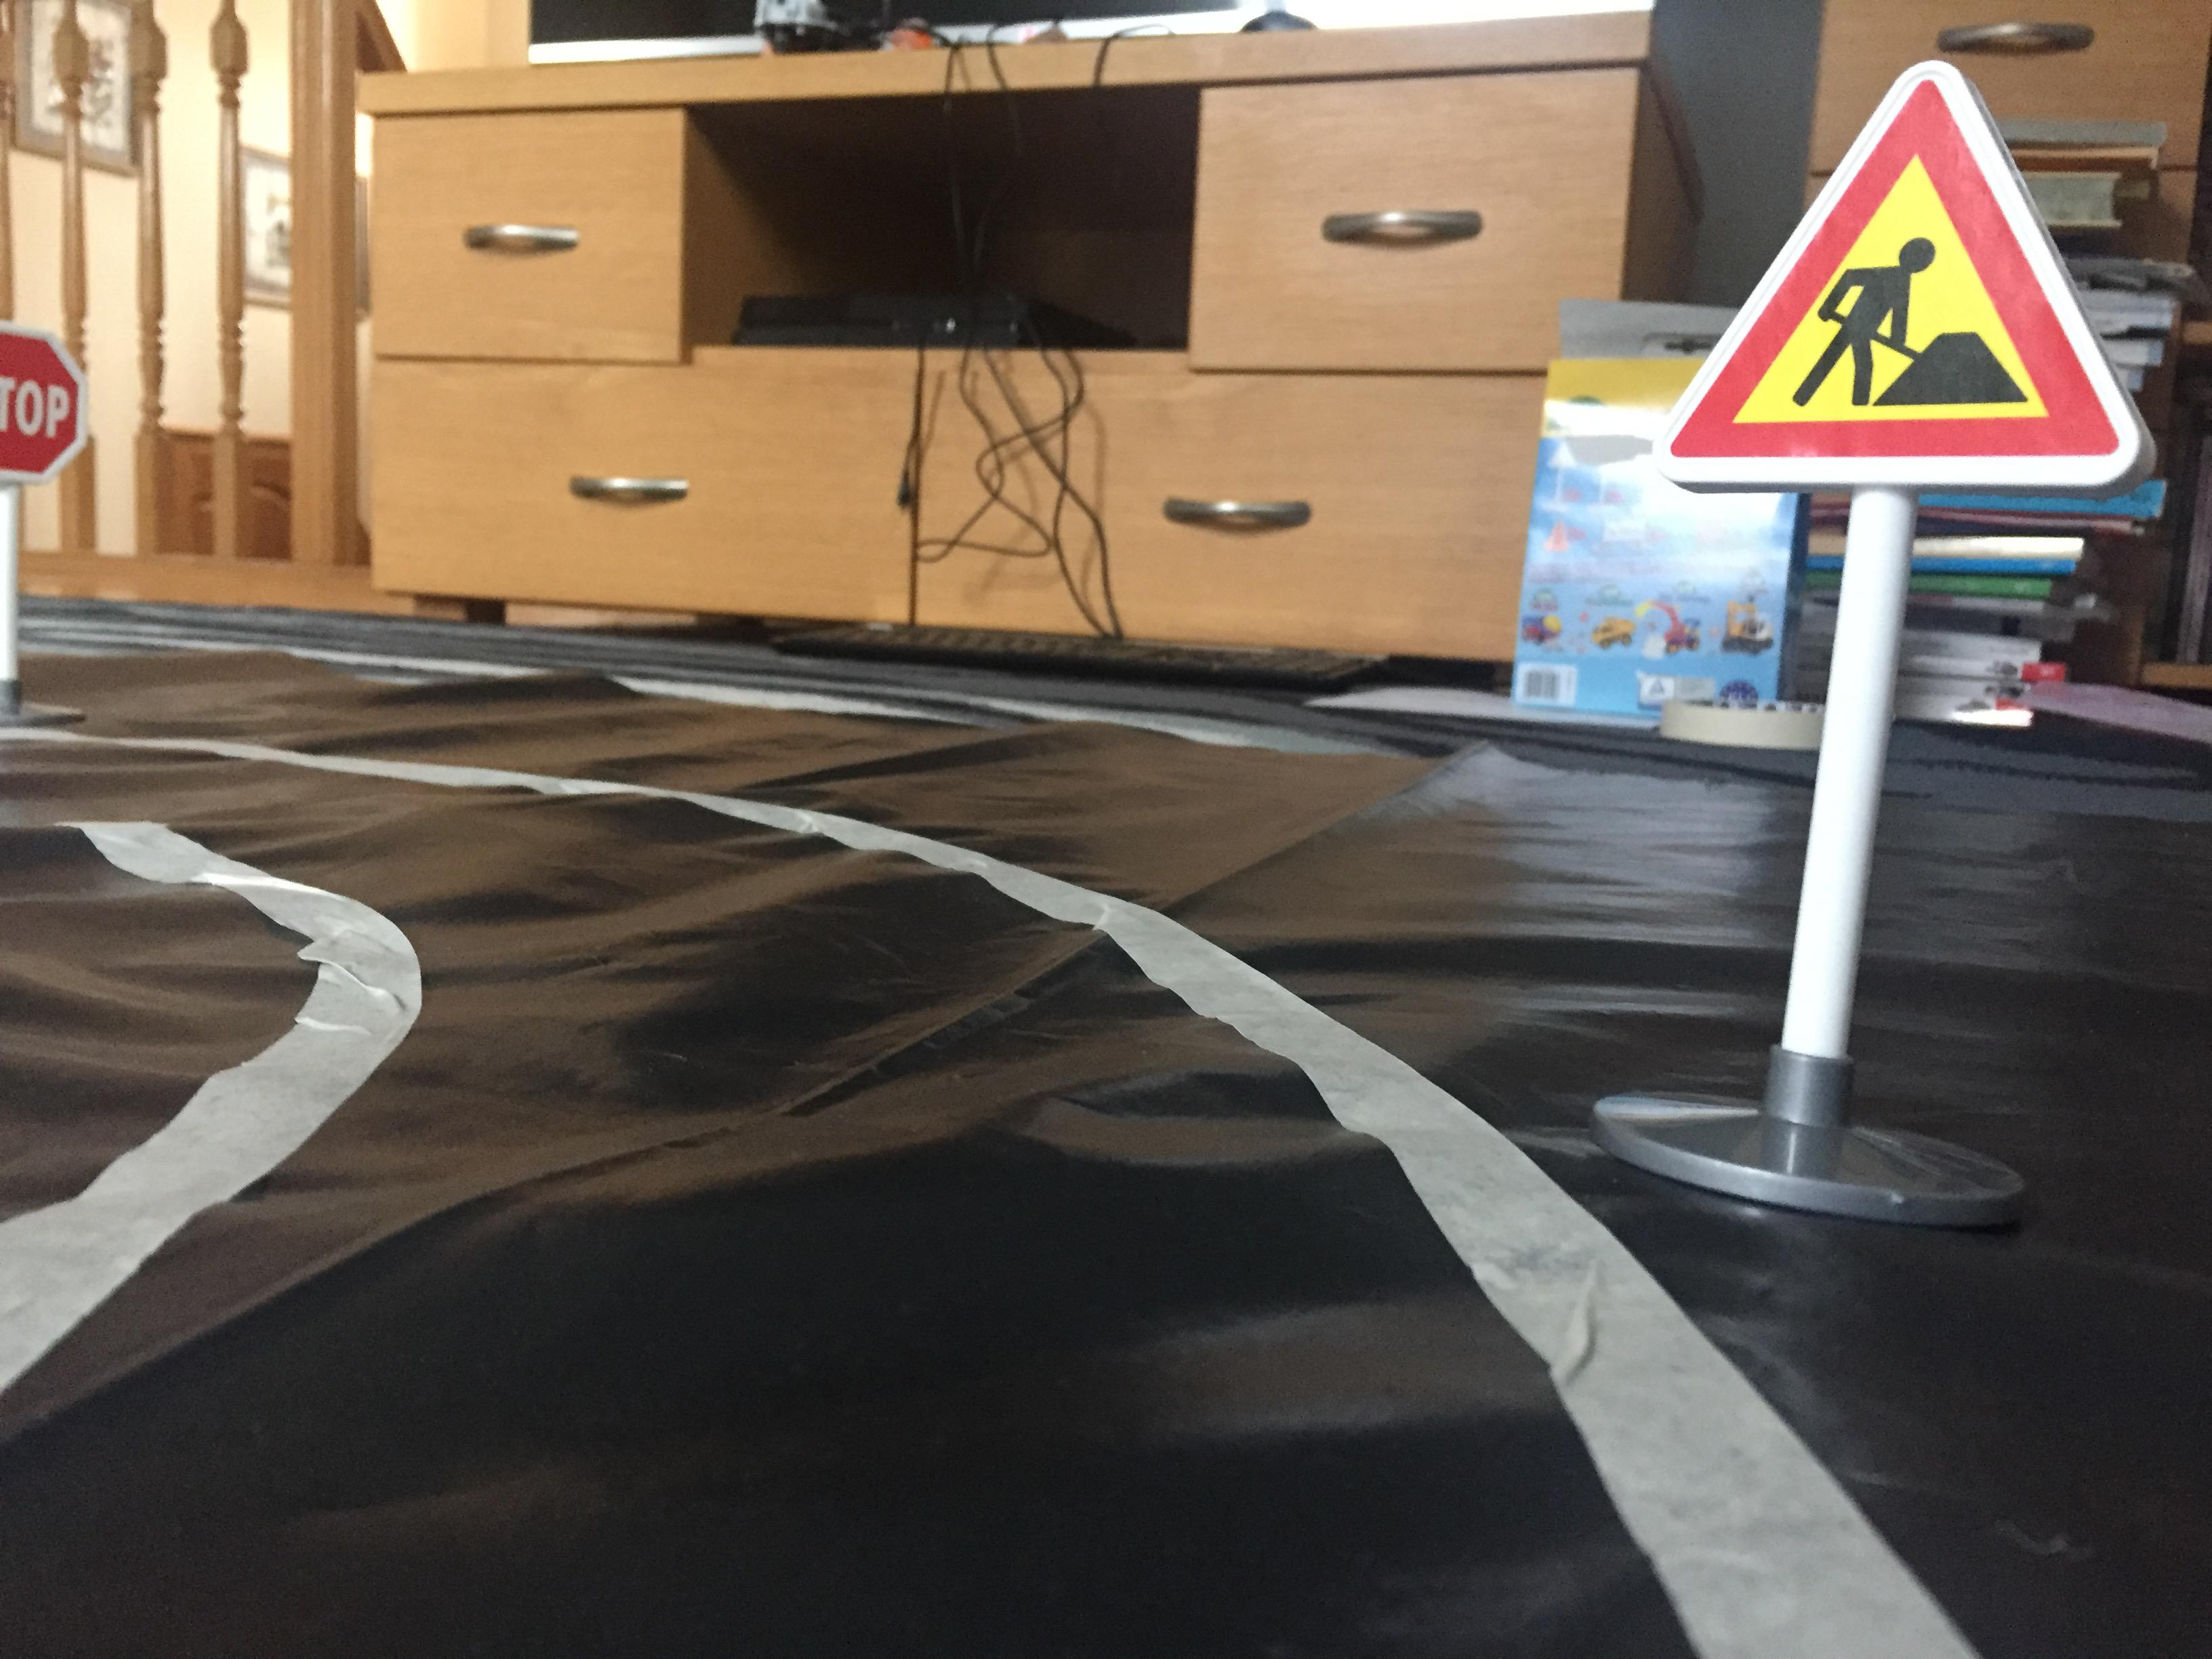work: (1642, 52, 2163, 509)
